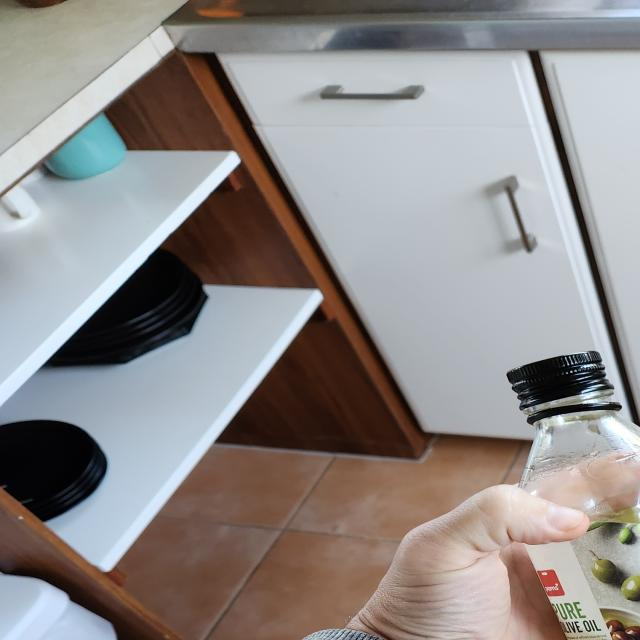olive oil: (505, 352, 640, 640)
